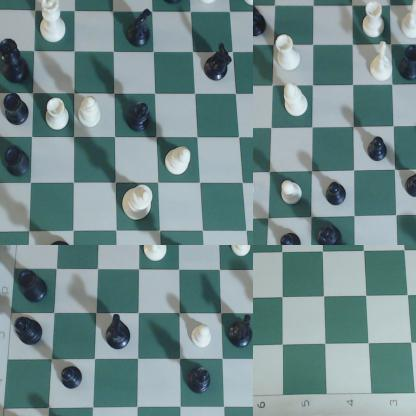black-bishop: (14, 313, 46, 349), (187, 366, 216, 398), (126, 104, 155, 134), (316, 223, 344, 245)
black-knight: (106, 311, 133, 353), (206, 43, 233, 83), (227, 311, 253, 352), (130, 8, 153, 49), (254, 1, 268, 39)
black-pawn: (322, 177, 353, 211), (369, 132, 390, 166), (59, 365, 84, 392), (403, 171, 416, 207), (279, 234, 305, 245)
black-queen: (1, 39, 36, 91)
black-rook: (2, 92, 33, 131), (19, 269, 51, 304), (6, 146, 33, 184), (401, 47, 416, 84)
white-bishop: (283, 81, 312, 124), (162, 143, 194, 179), (80, 96, 105, 133)
white-king: (118, 182, 158, 223)
white-knight: (368, 42, 392, 85), (401, 1, 416, 41), (143, 246, 171, 263)
white-pawn: (280, 177, 305, 213), (190, 321, 215, 352), (229, 246, 253, 257)
white-queen: (38, 1, 70, 46)
white-rook: (43, 95, 73, 136), (274, 36, 303, 75), (362, 1, 387, 41)
